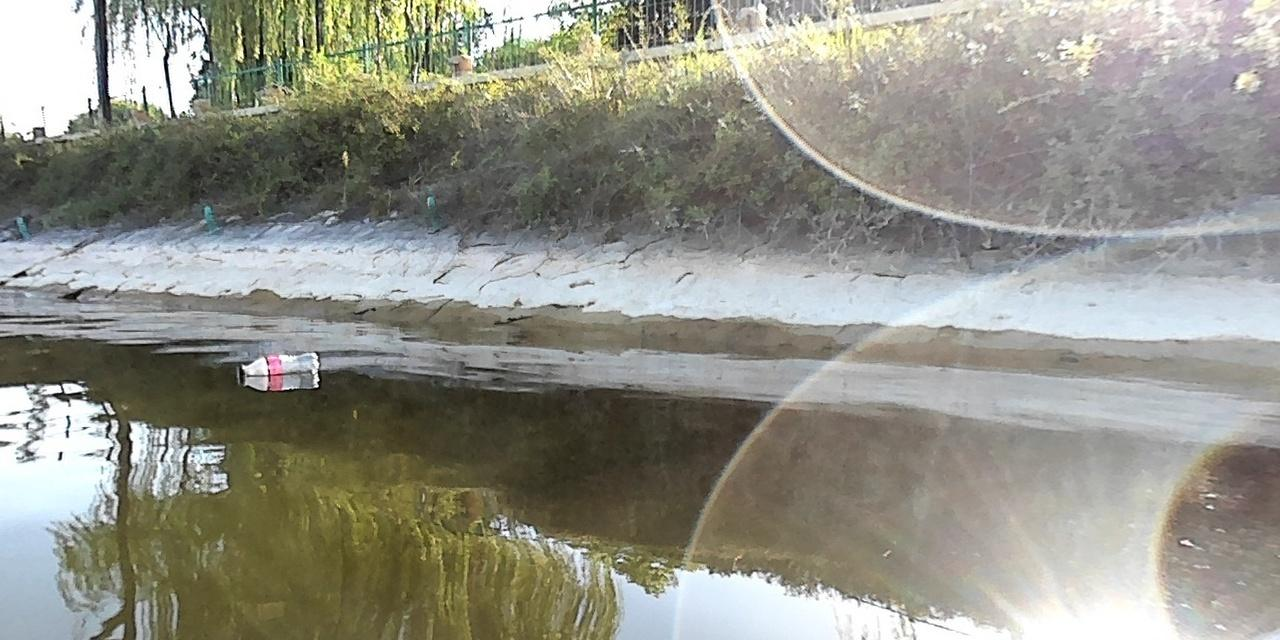bottle: (230, 350, 324, 378)
